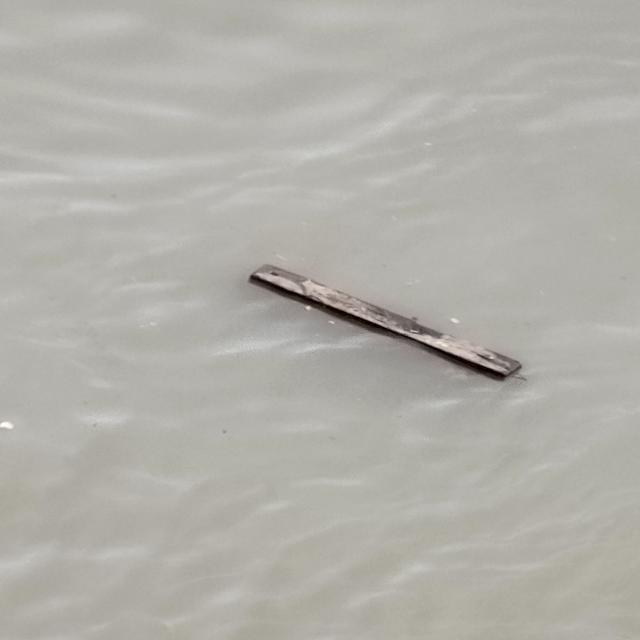Organic Debris: (242, 250, 538, 391)
